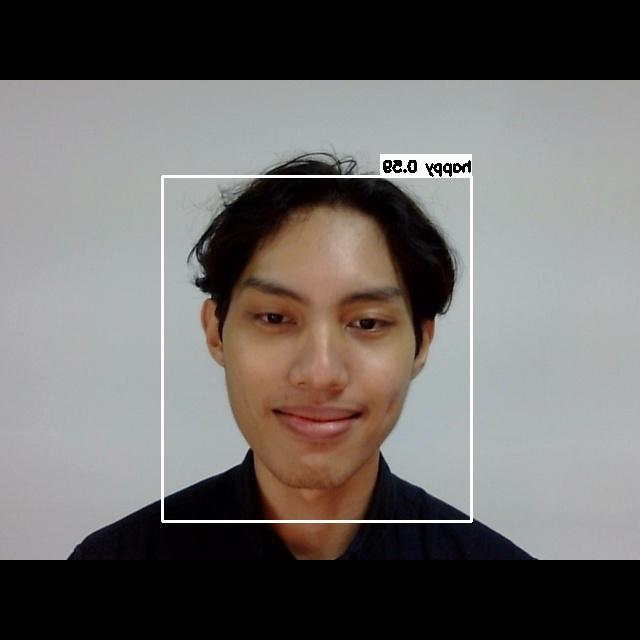Happy: (218, 254, 411, 455)
